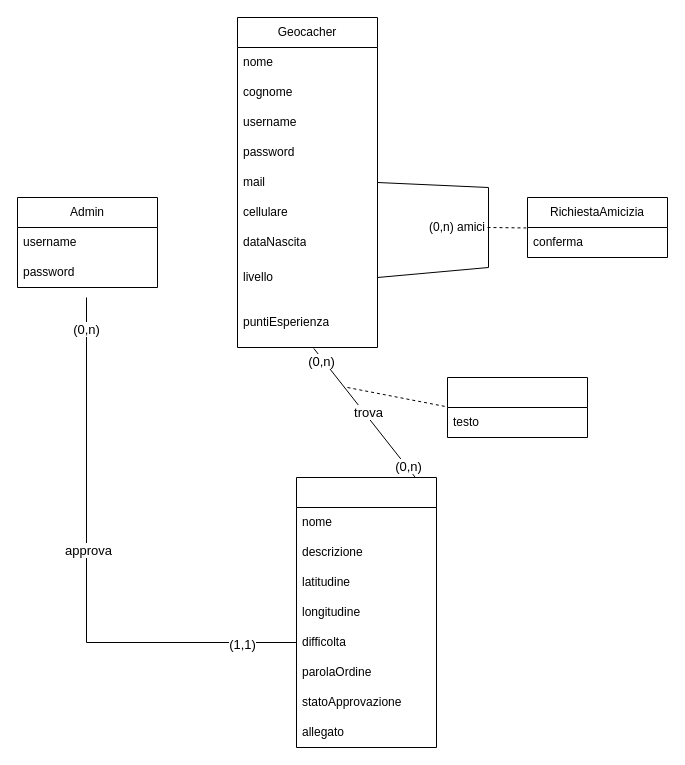
Some shapes in this 685 by 765 pixel diagram are drawn without their labels. Each missing label, with the box of its shape:
Cache: (296, 476, 436, 748)
Feedback: (446, 376, 588, 438)
